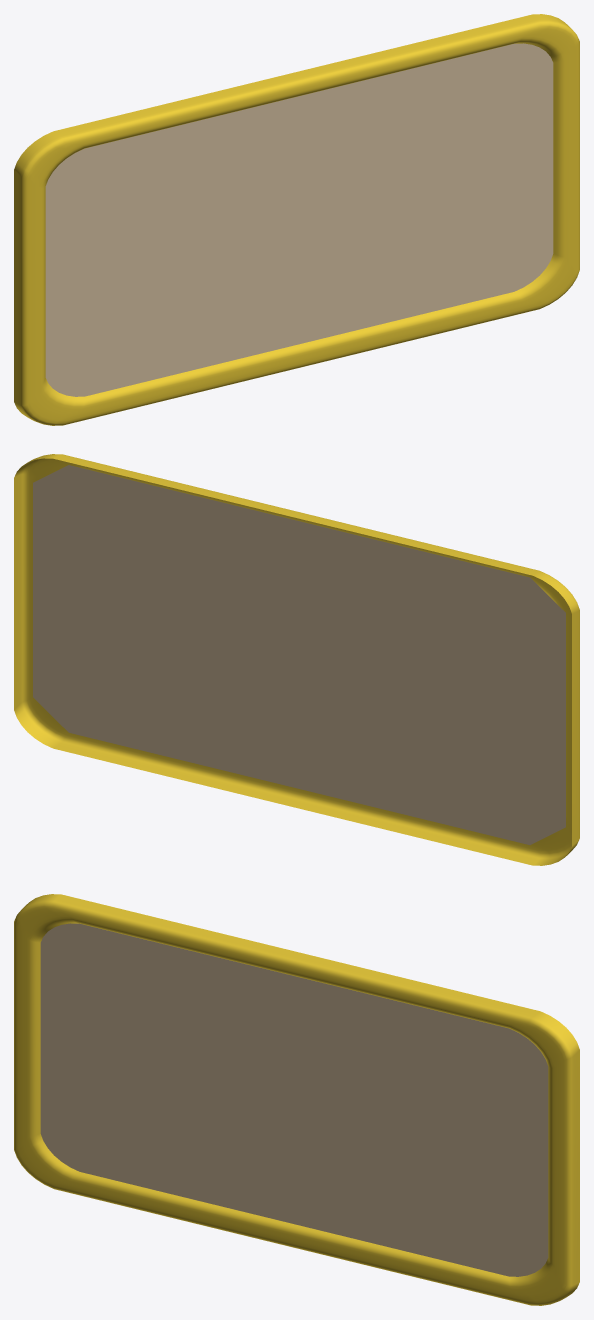
File: SM_BulletinBoard.fbx
3 views of the same model, one above another, from view 1: azimuth 30°, elevation 25°; view 2: azimuth 150°, elevation 25°; view 3: azimuth 330°, elevation 25° (orthographic).
Visible parts, largest first — view 1: polySurface194, polySurface195; view 2: polySurface194, polySurface195; view 3: polySurface194, polySurface195.
Part boxes in pixels (bbox=[...]): polySurface194: bbox=[45, 43, 553, 396]; polySurface195: bbox=[14, 14, 579, 425]; polySurface194: bbox=[33, 465, 565, 844]; polySurface195: bbox=[14, 454, 579, 865]; polySurface194: bbox=[40, 923, 548, 1276]; polySurface195: bbox=[14, 894, 579, 1305].
Size of the model in its own units: 223 by 110 by 6.82.
Materials: 1 (1 with a texture image).
